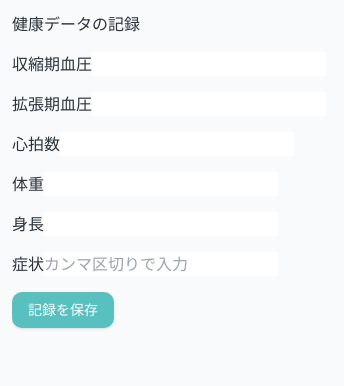
Test case: HealthForm Component › handles API errors gracefully
This screenshot has width=344, height=386.
Fill minimal required data
In the number field labelled "収縮期血圧": coordinates (209, 64) [92,52,326,76], type "120"
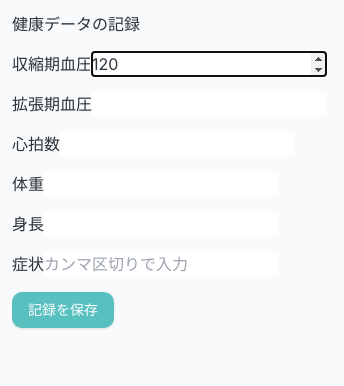
In the number field labelled "拡張期血圧": coordinates (209, 104) [92,92,326,116], type "80"
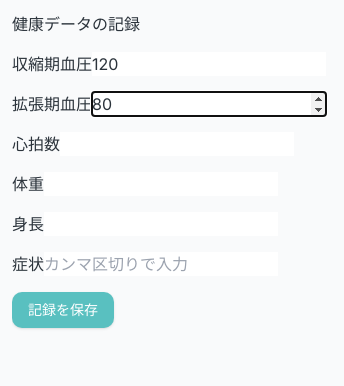
Click the button "記録を保存": coordinates (63, 310) [12,292,114,328]
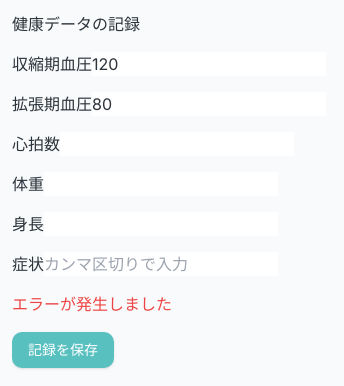
Result: the text "エラーが発生しました" is shown at [12,294,172,314]
